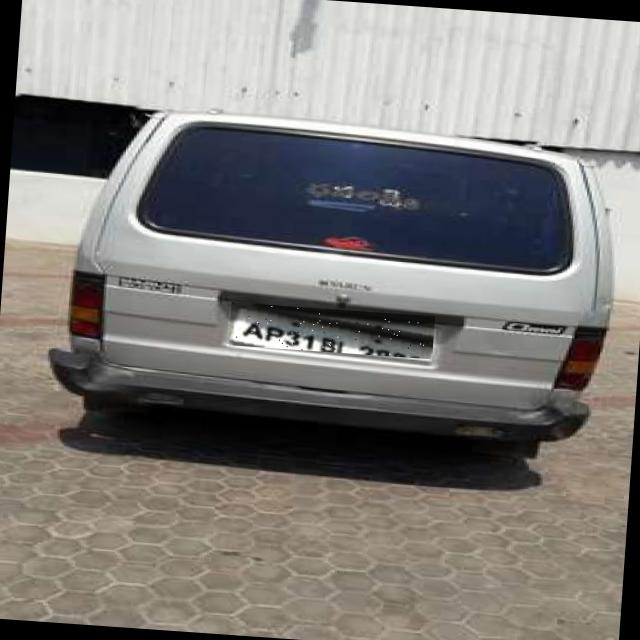Plate: (230, 303, 436, 360)
